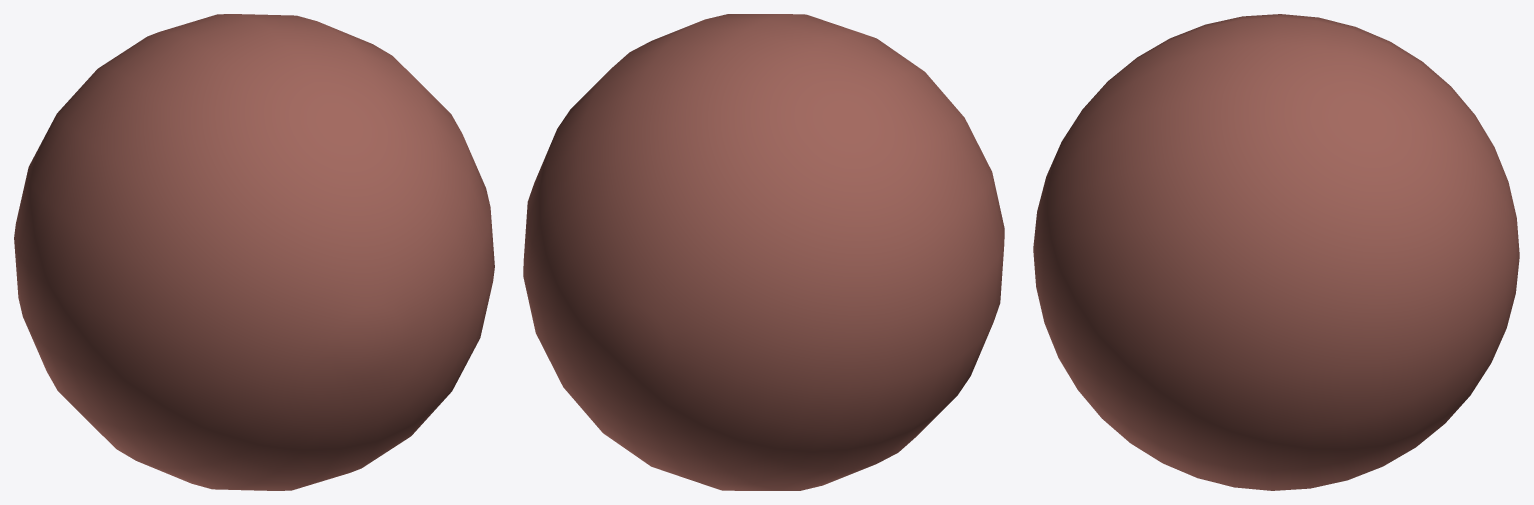
The model's file is mixamo_humanoid_joint_rightArm.fbx.
3 views of the same model, side by side, from view 1: azimuth 30°, elevation 25°; view 2: azimuth 150°, elevation 25°; view 3: azimuth 270°, elevation 25° (orthographic).
Parts seen in each view (by area): view 1: joint_RightArm; view 2: joint_RightArm; view 3: joint_RightArm.
Boxes of the visible parts, bbox=[...] form: joint_RightArm: bbox=[14, 14, 494, 490]; joint_RightArm: bbox=[523, 14, 1004, 490]; joint_RightArm: bbox=[1033, 14, 1519, 490].
Bounding box in the file's own units: 9.72 × 9.73 × 9.9.
